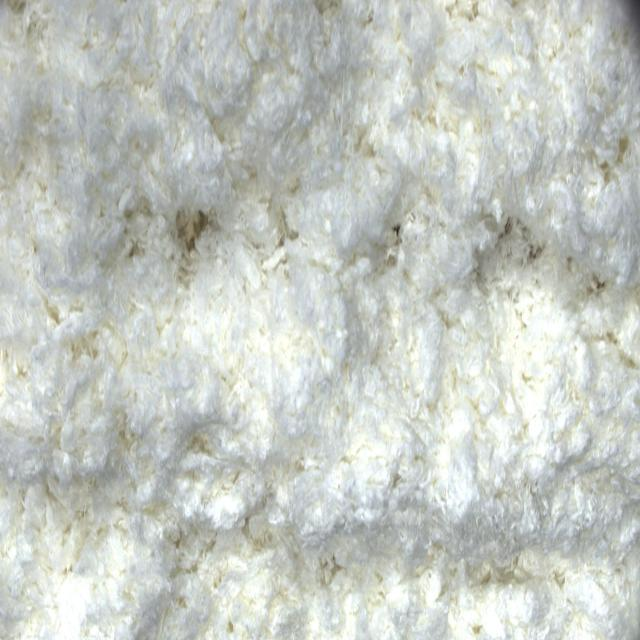dust: (177, 212, 209, 266), (500, 222, 545, 256)
